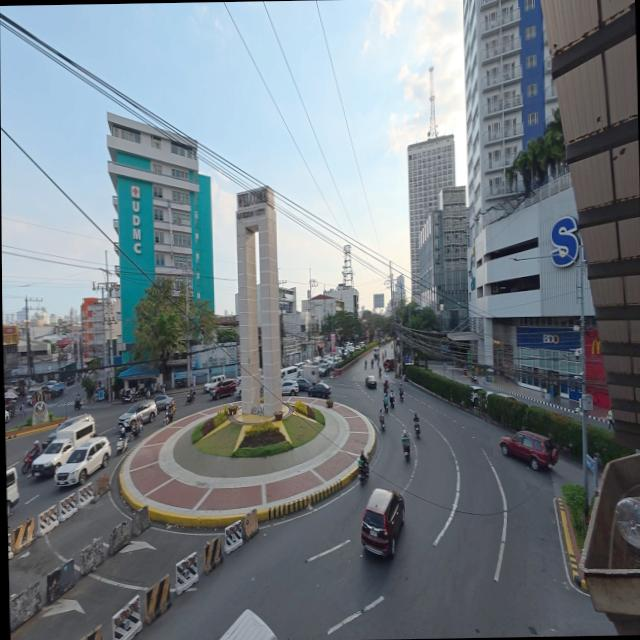car: (361, 489, 405, 556), (55, 437, 111, 486), (500, 431, 558, 470), (47, 414, 94, 442), (118, 399, 157, 429), (211, 379, 237, 399), (203, 374, 226, 393), (308, 383, 331, 399), (154, 394, 173, 411), (282, 380, 298, 395), (297, 379, 313, 392), (496, 392, 518, 401), (318, 362, 331, 376), (366, 376, 377, 389), (384, 359, 395, 371), (236, 378, 242, 398), (5, 410, 10, 423), (359, 341, 365, 348), (355, 346, 360, 351)
motorcycle: (22, 451, 38, 474), (358, 460, 369, 485), (130, 420, 142, 441), (162, 408, 174, 427), (117, 436, 128, 455), (402, 437, 410, 460), (135, 386, 148, 399), (122, 389, 134, 403), (128, 427, 138, 442), (119, 424, 130, 435), (186, 392, 195, 405), (414, 421, 420, 438), (155, 383, 165, 393), (137, 417, 142, 437), (146, 386, 154, 398), (379, 416, 385, 431), (404, 446, 410, 460), (75, 400, 82, 410), (384, 383, 389, 396), (471, 374, 478, 383), (384, 397, 388, 411), (146, 389, 152, 398), (390, 396, 394, 407), (403, 374, 409, 381), (400, 391, 403, 401), (383, 351, 386, 359), (371, 361, 374, 369), (379, 368, 381, 377), (365, 362, 367, 369)
trucks: (303, 365, 320, 383)
vans: (220, 610, 277, 639), (57, 420, 94, 447), (6, 468, 19, 516), (281, 366, 298, 381), (312, 358, 322, 365)
